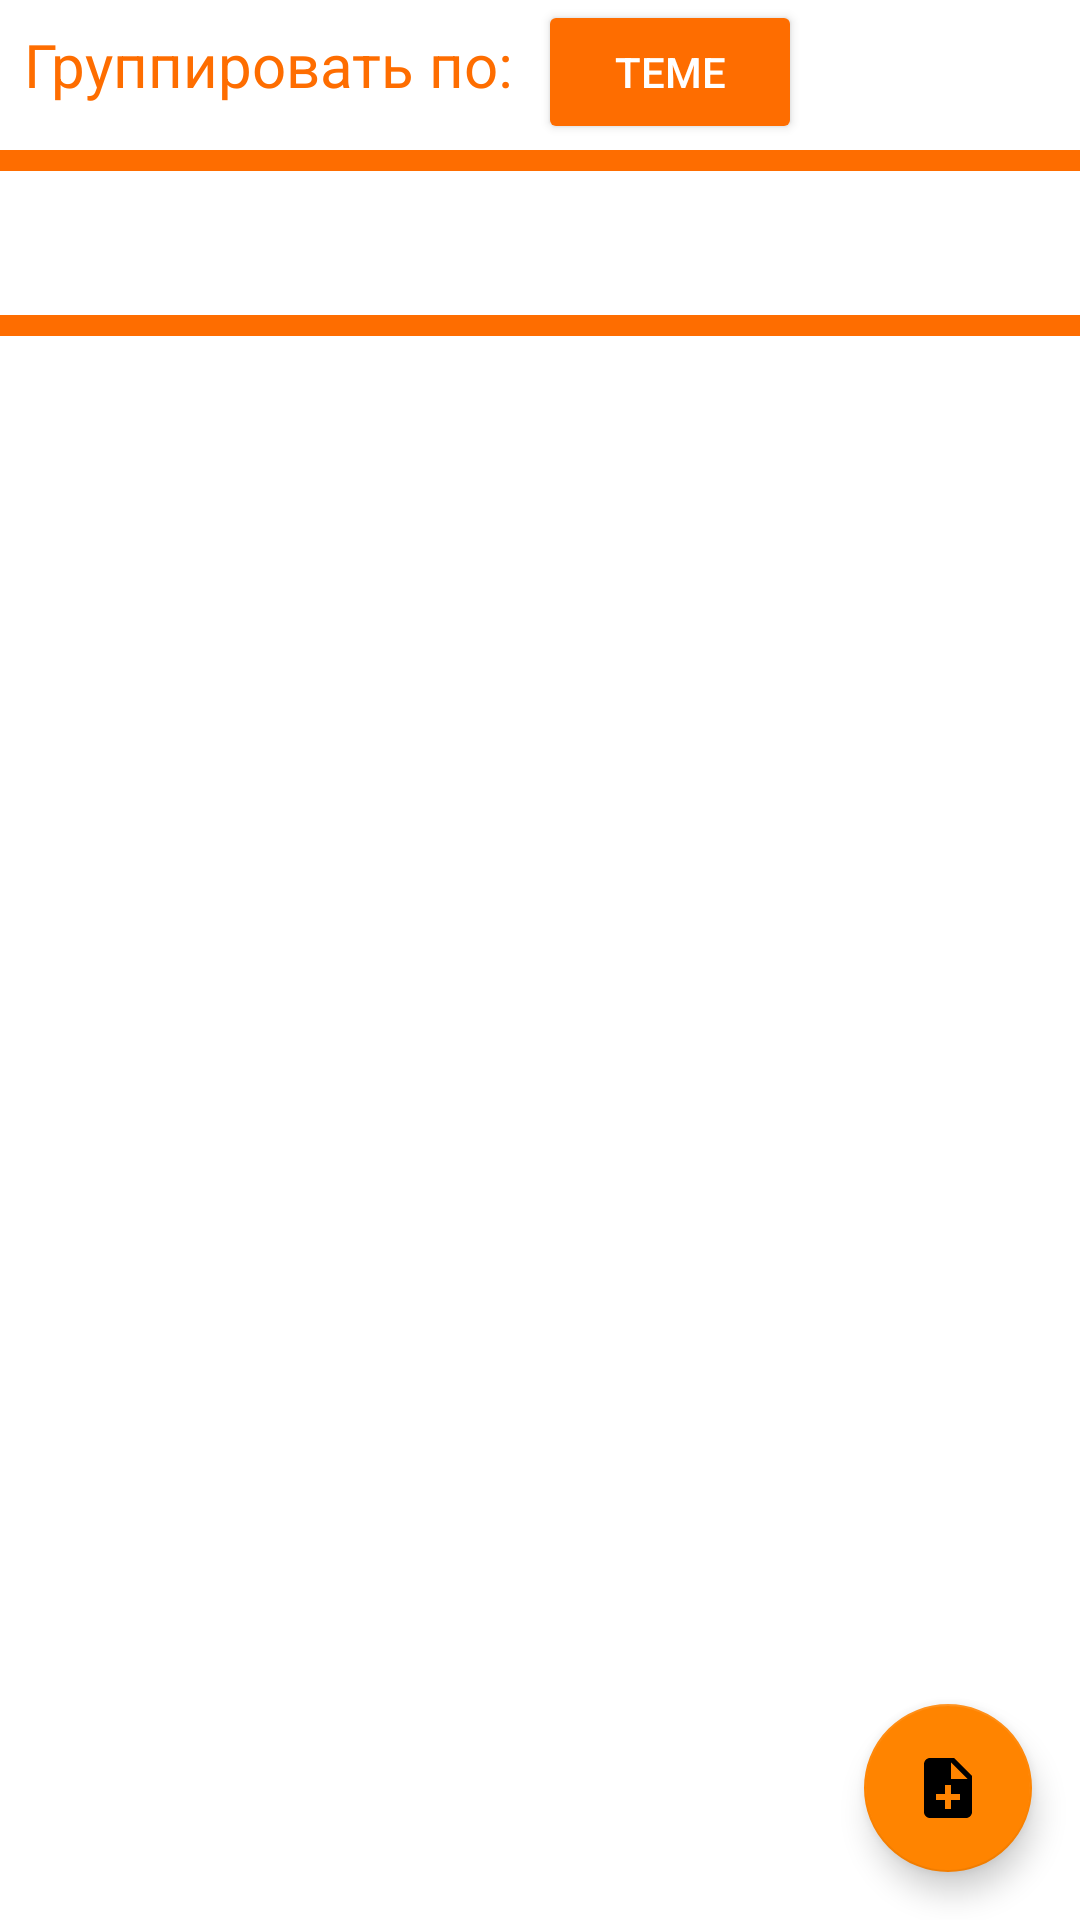

Named icons in this screenshot (1080×1920) and their centers, (x=x, y=y):
note add: (x=948, y=1788)
